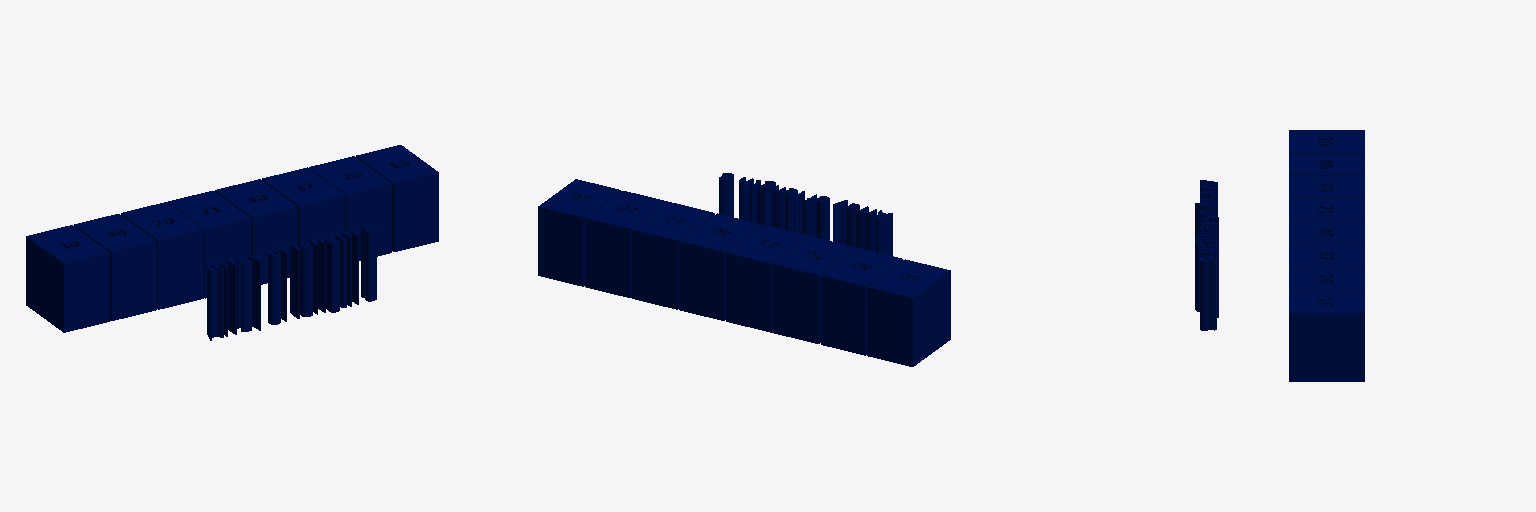
Rendered from array.obj.
3 renders of one model, left to right at view 1: azimuth 30°, elevation 25°; view 2: azimuth 150°, elevation 25°; view 3: azimuth 270°, elevation 25°, orthographic.
Visible parts, largest first — view 1: path74; view 2: path74; view 3: path74.
Boxes of the visible parts, x1,y1,x2,y2 form: path74: [26, 145, 438, 340]; path74: [538, 173, 950, 366]; path74: [1195, 130, 1364, 381].
Size of the model in its own units: 0.1132 by 0.02 by 0.0443.